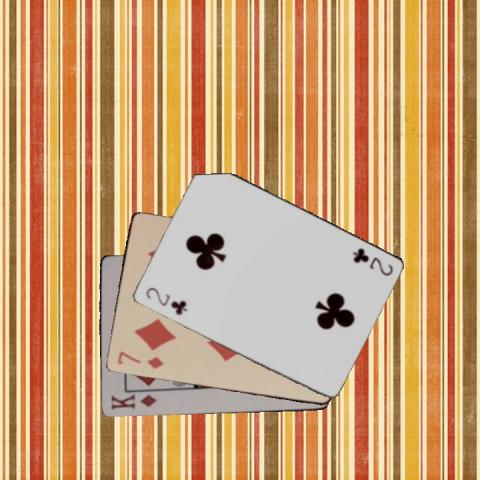2c: (142, 284, 188, 317), (349, 245, 395, 277)
7d: (114, 348, 165, 370)
Kd: (108, 392, 158, 411)
